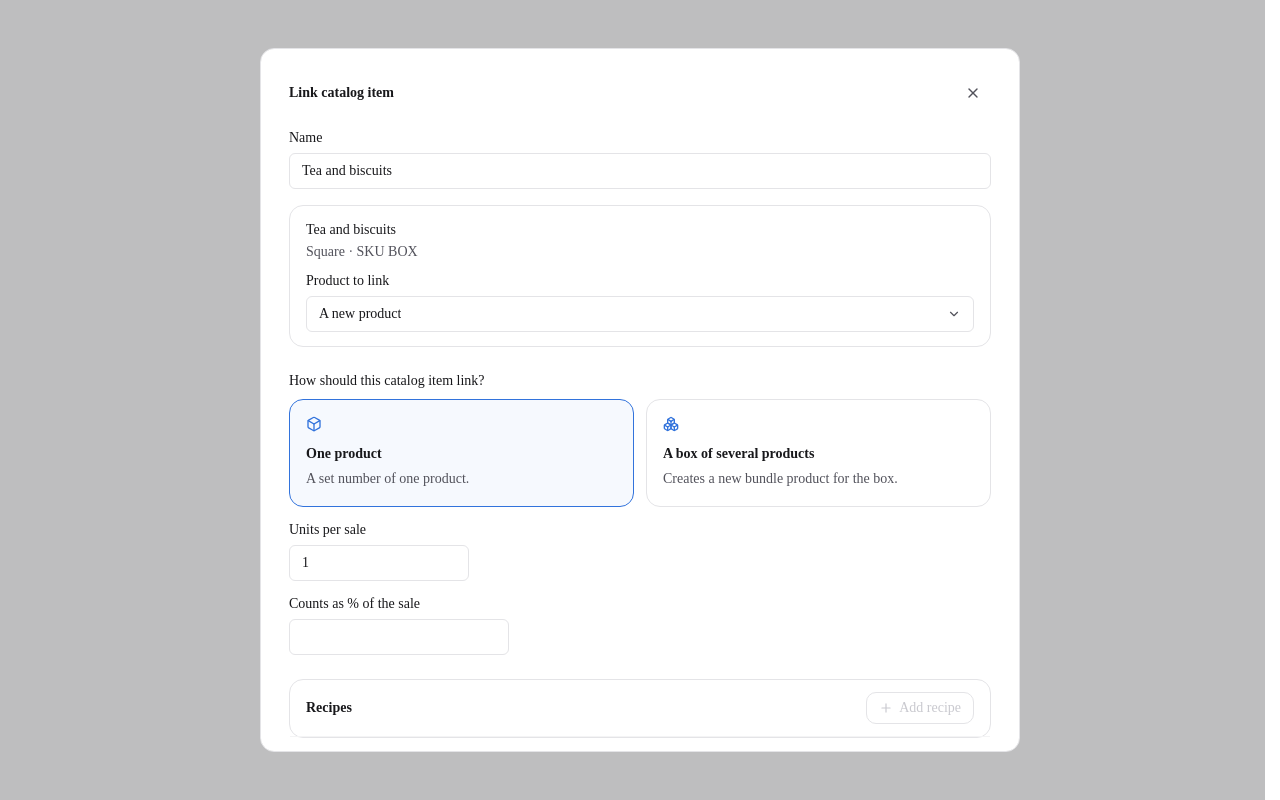
Test: track dialog bundle kind › says how much of the sale stays unattributed
In the field labelled "Counts as % of the sale": (399, 637) 289,619 -> 509,655, type "80"
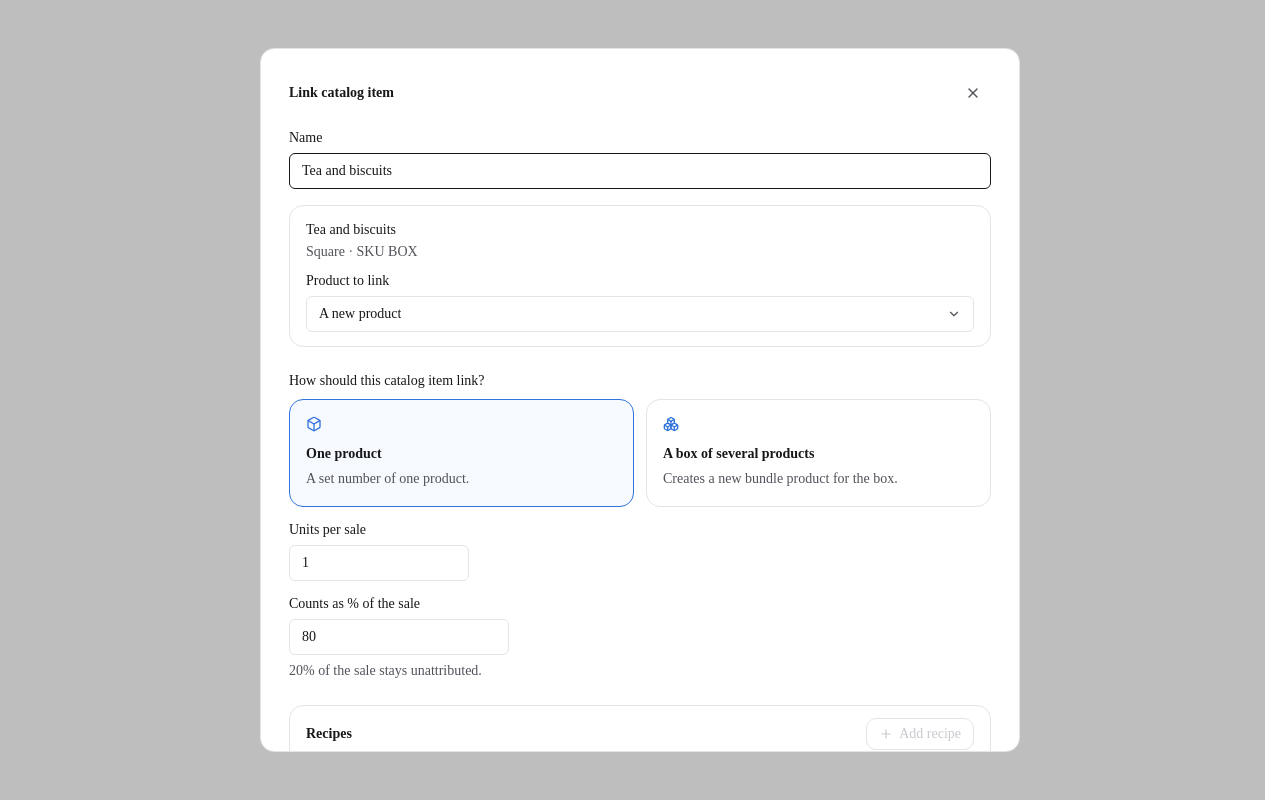
Result: the text "20% of the sale stays unattributed." is shown at 289,663 -> 482,678
